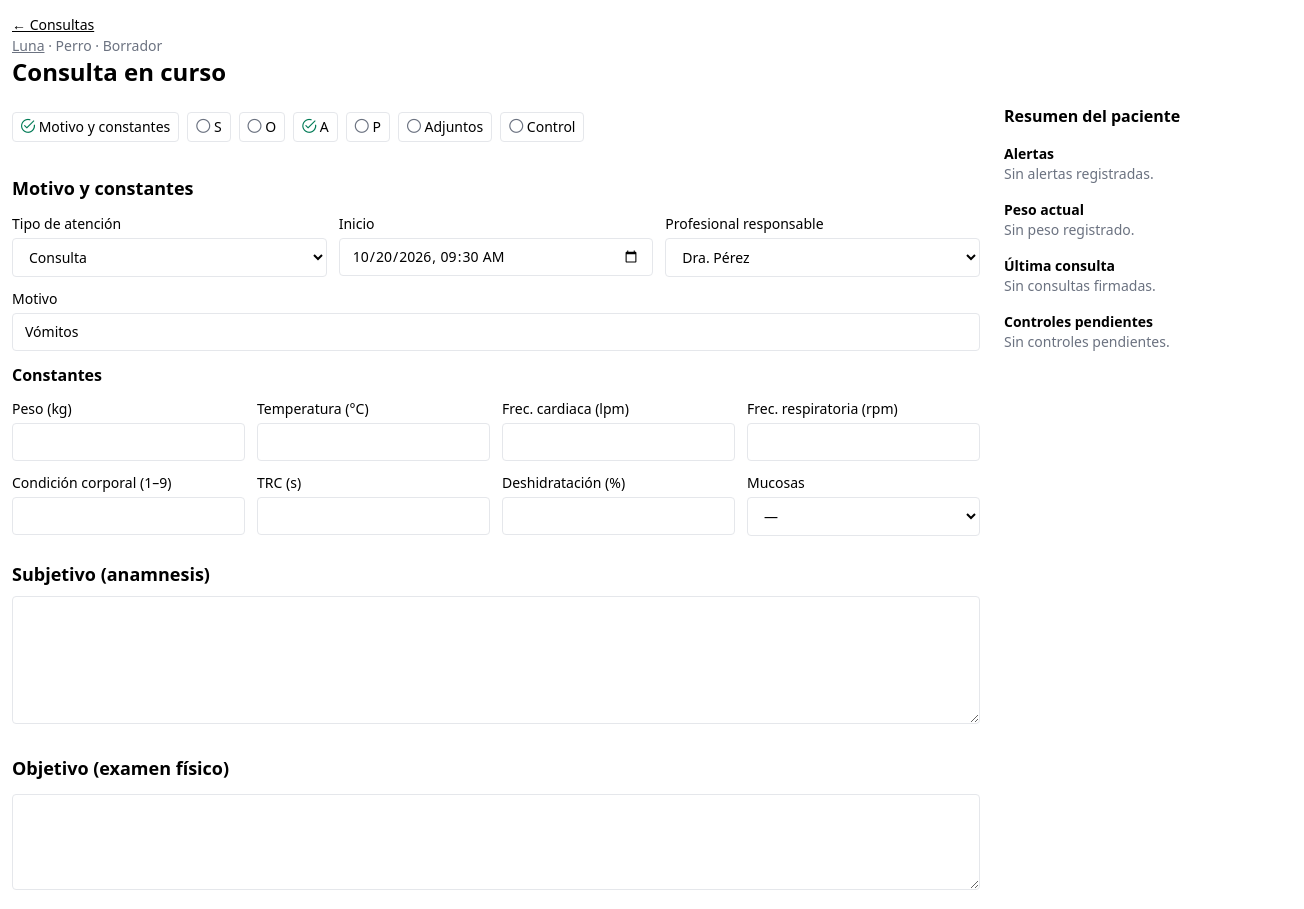
Test case: EncounterEditorPage (FE-003/FE-004) › autoguardado: PATCH con If-Match a los 5 s y aviso "Guardado"
Replace the text in the field with test id "reason" with "Vómitos y diarrea": [496, 332] box [12,313,980,351]
Wait 5000 ms
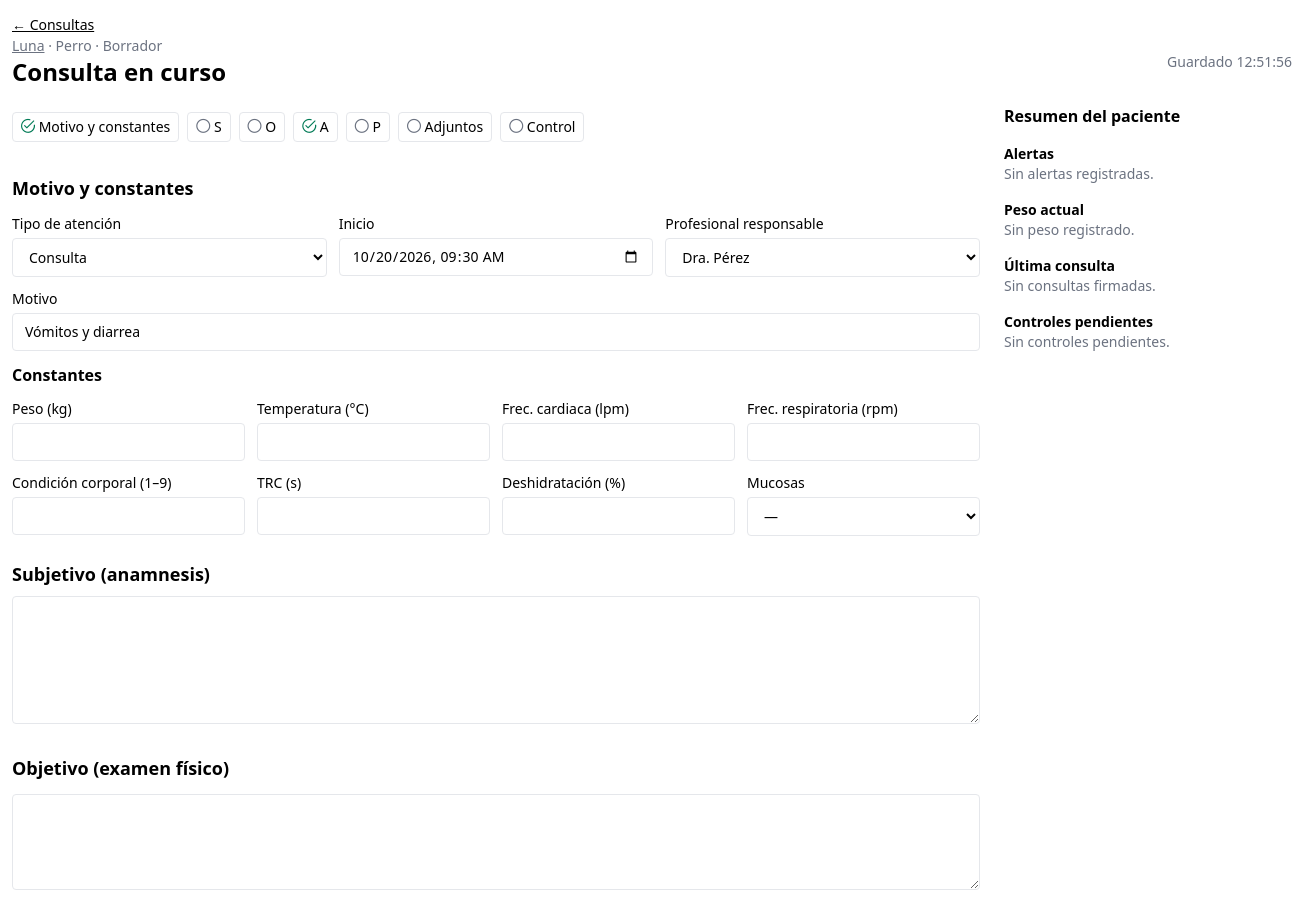
Expected: the message with test id "autosave-status" shows "Guardado", [1167,52,1292,71]
